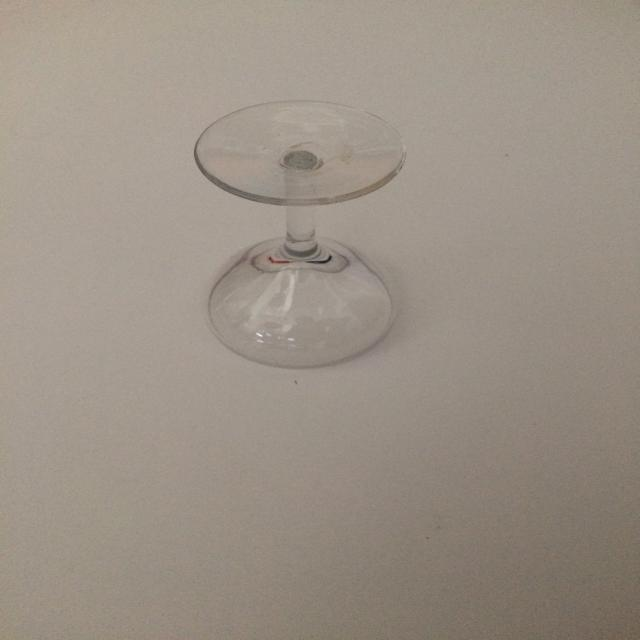glass: (190, 100, 404, 374)
